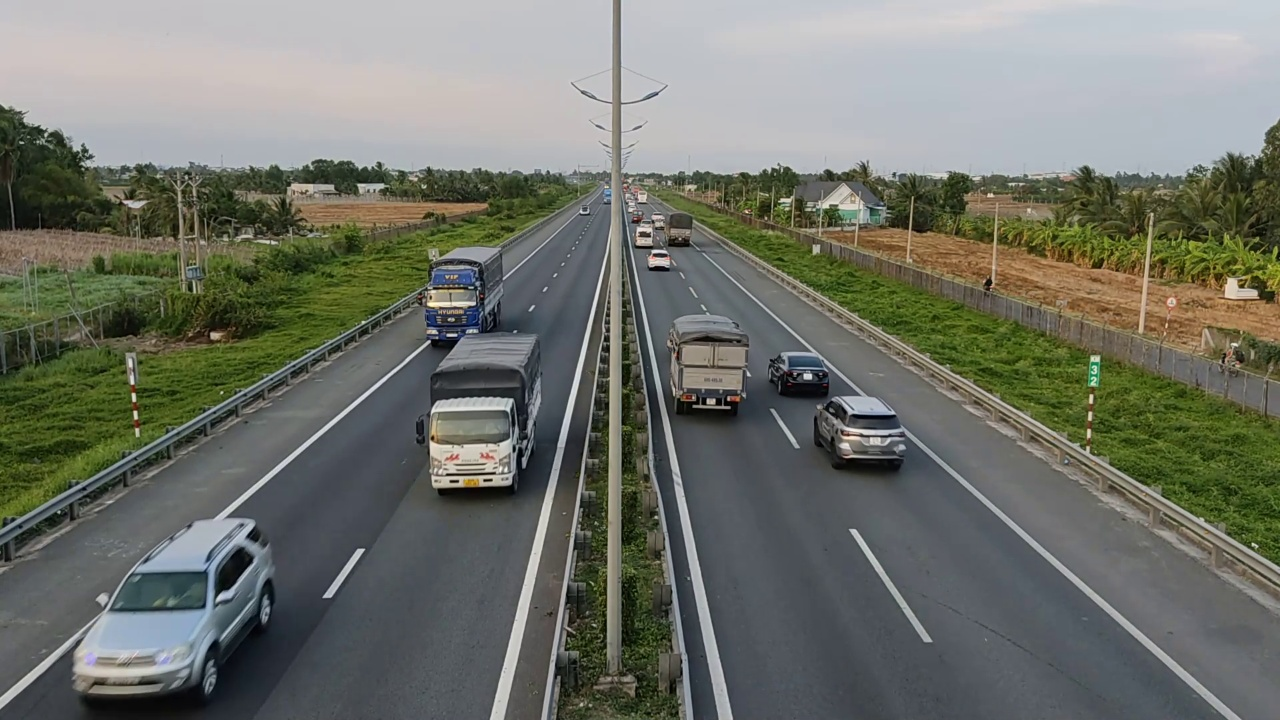car: (70, 517, 277, 703), (813, 394, 907, 469), (767, 351, 831, 396), (647, 249, 671, 271)
truck: (415, 329, 542, 497), (416, 240, 506, 349), (666, 313, 751, 417), (665, 211, 693, 247)
